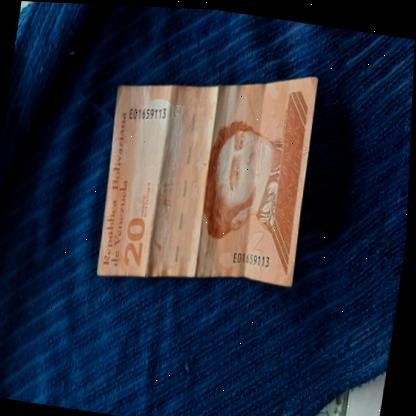twenty-front-vef: (89, 44, 325, 302)
